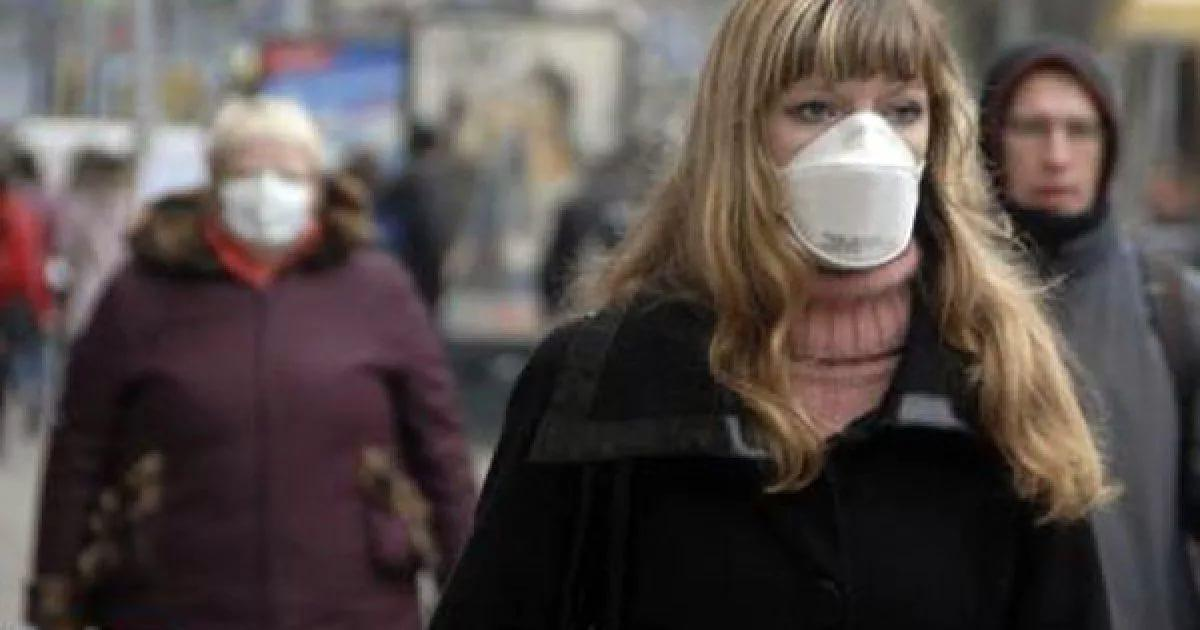mask: (744, 55, 937, 279), (215, 121, 315, 247)
none: (997, 68, 1110, 216)
